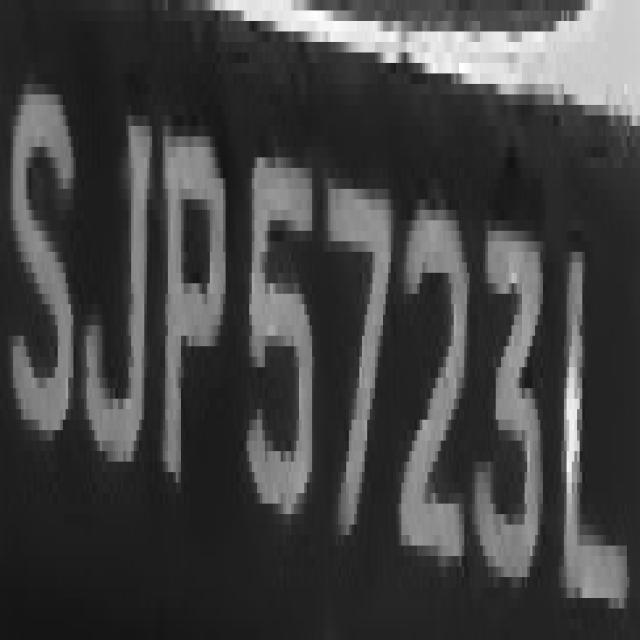2: (394, 168, 469, 619)
3: (472, 147, 543, 608)
5: (239, 84, 320, 525)
7: (317, 115, 396, 556)
J: (71, 52, 152, 482)
L: (2, 4, 3, 10)
P: (147, 84, 231, 493)
S: (3, 32, 76, 451)
